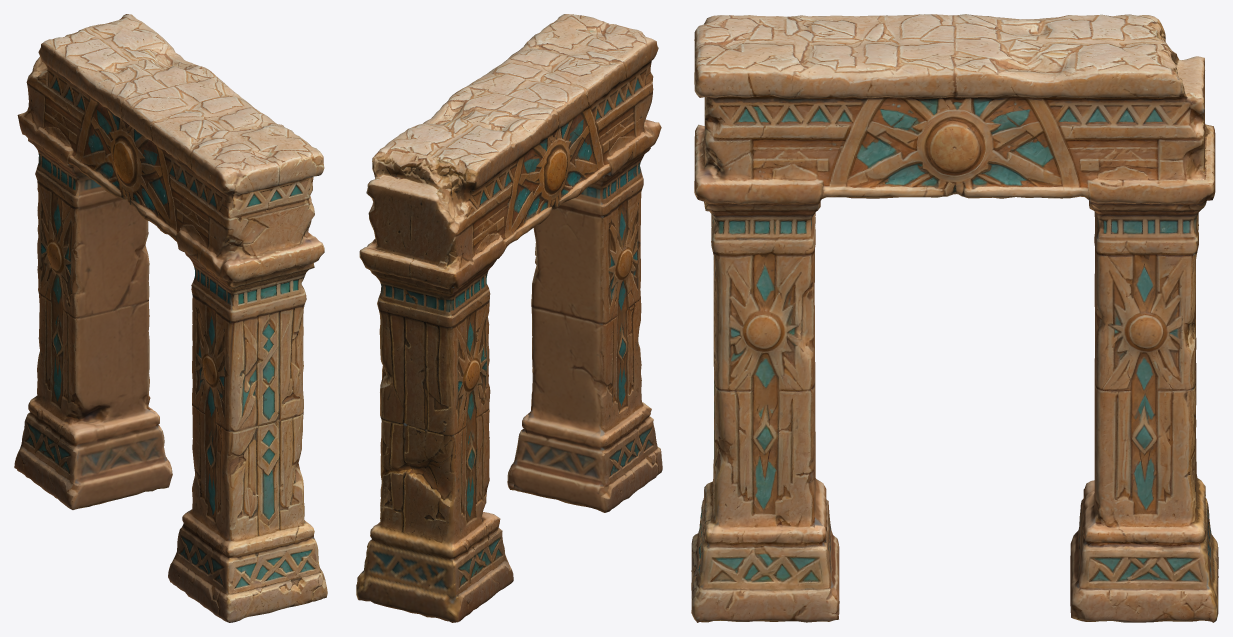
Rendered from DESERT_P04_RUIN_GATEWAY.glb.
3 views of the same model, side by side, from view 1: azimuth 30°, elevation 25°; view 2: azimuth 150°, elevation 25°; view 3: azimuth 270°, elevation 25° (orthographic). The views are drawn at different scales.
Visible parts, largest first — view 1: texture_mapping; view 2: texture_mapping; view 3: texture_mapping.
Part boxes in pixels (<box>): texture_mapping: <box>14,14,327,622</box>; texture_mapping: <box>356,14,662,622</box>; texture_mapping: <box>691,14,1218,622</box>.
Size of the model in its own units: 0.2463 by 1 by 0.8655.
Materials: 1 (1 with a texture image).
